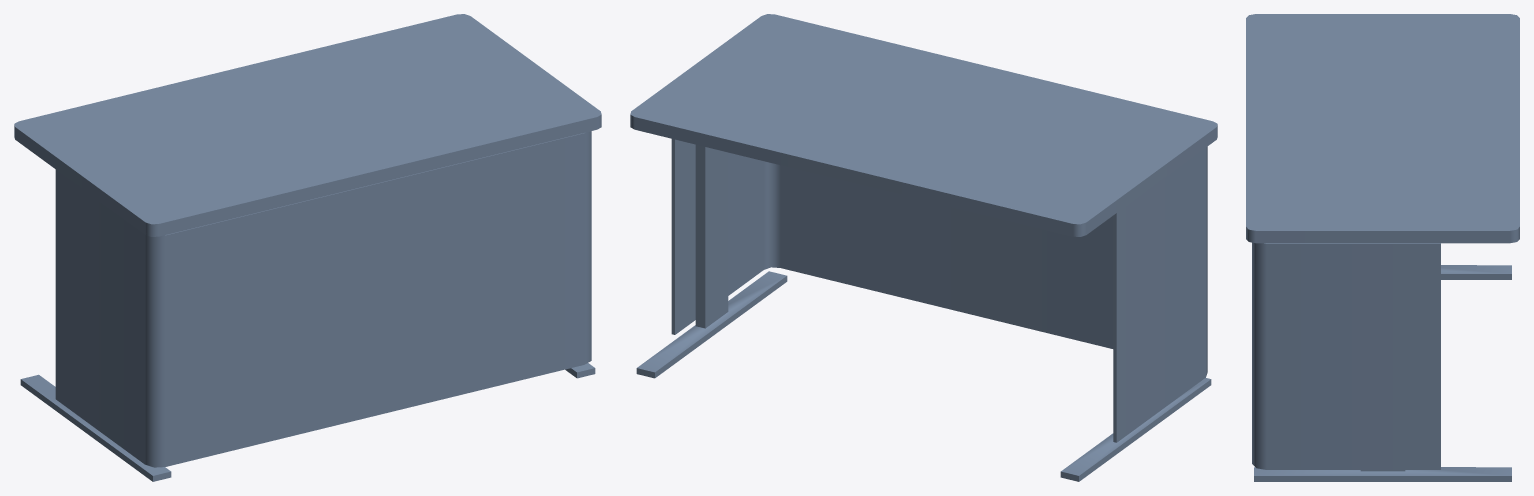
The model's file is SM_Desk_01.fbx.
3 views of the same model, side by side, from view 1: azimuth 30°, elevation 25°; view 2: azimuth 150°, elevation 25°; view 3: azimuth 270°, elevation 25° (orthographic). The views are drawn at different scales.
Parts seen in each view (by area): view 1: Desk_01; view 2: Desk_01; view 3: Desk_01.
Part boxes in pixels (left/top/right/bottom): Desk_01: left=14, top=14, right=601, bottom=481; Desk_01: left=630, top=14, right=1217, bottom=481; Desk_01: left=1246, top=14, right=1519, bottom=481.
Bounding box in the file's own units: 150 × 82 × 80.
